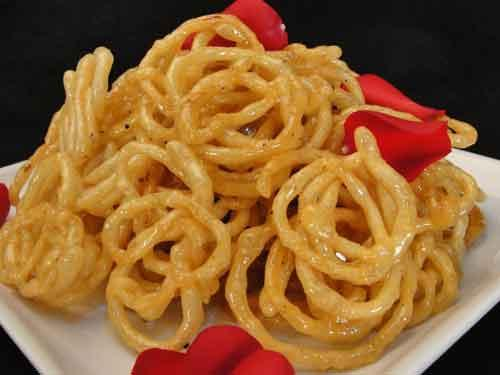jalebi: (13, 30, 475, 354)
